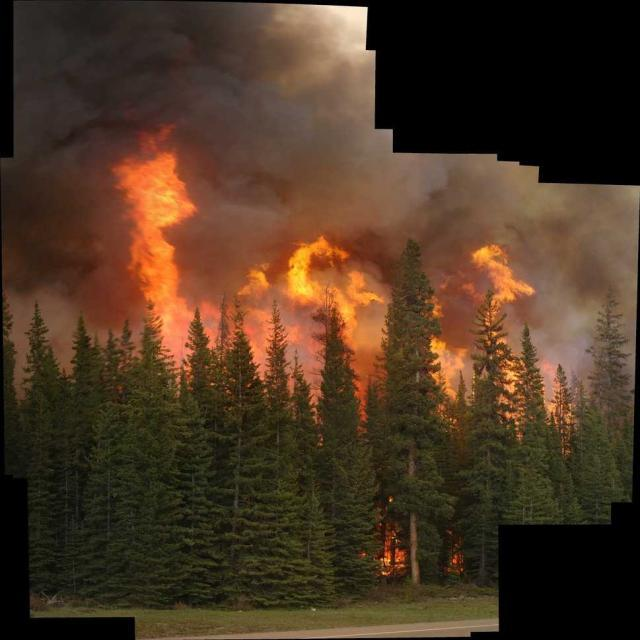Fire: (113, 146, 209, 333), (254, 240, 378, 323), (454, 252, 526, 348)
